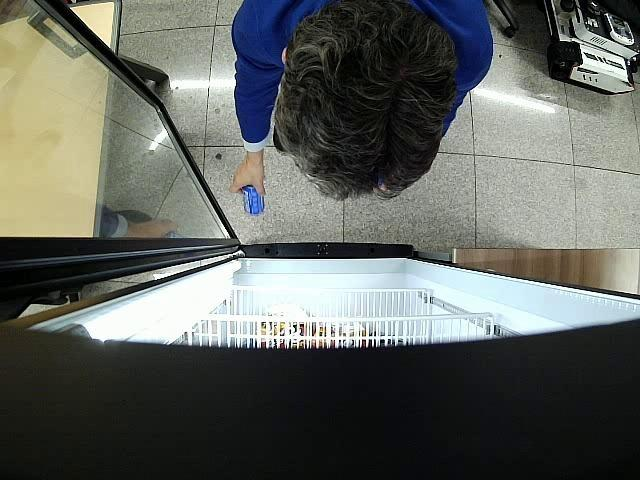13_pocariSweat: (243, 186, 265, 215)
